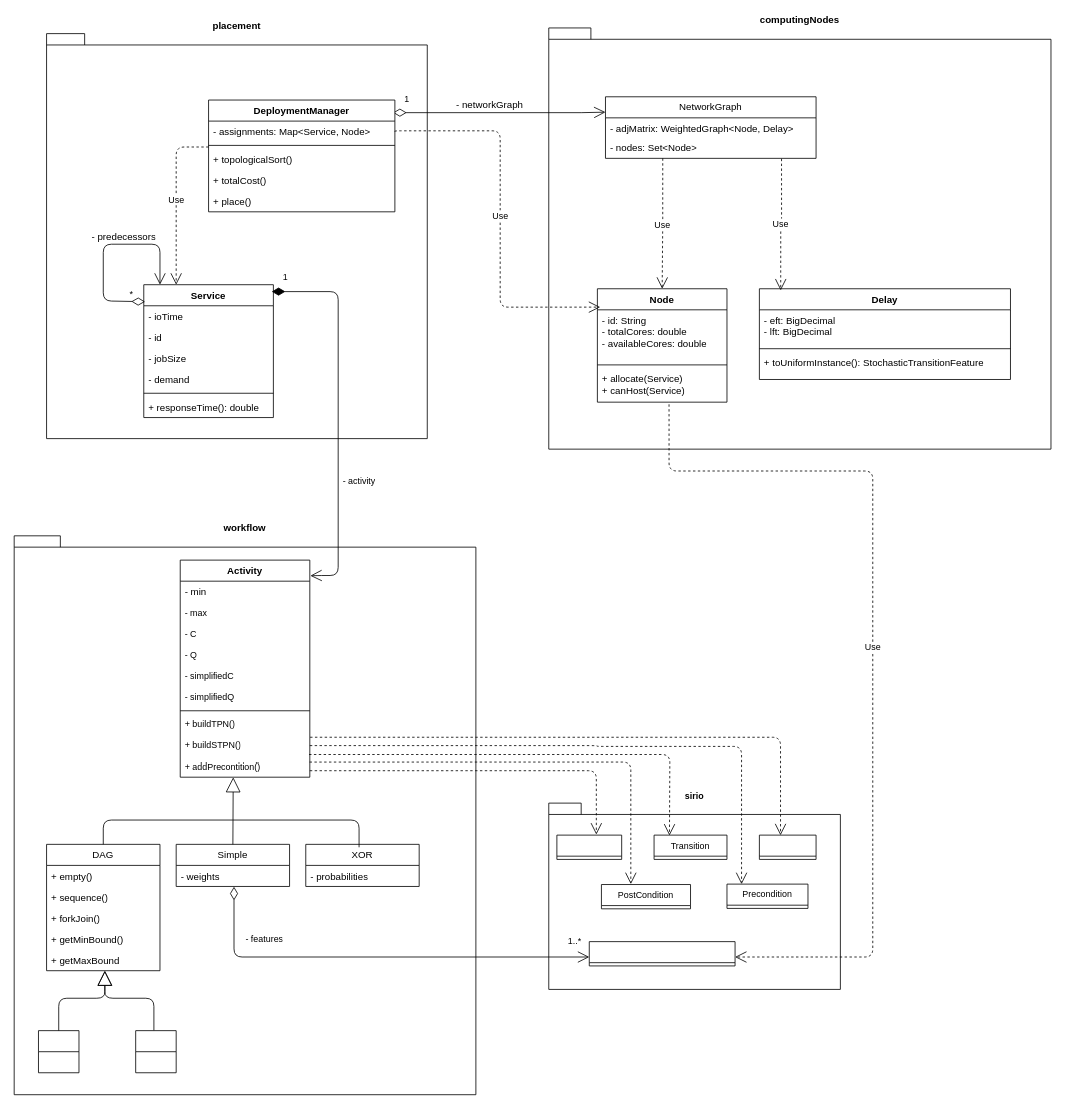
The diagram is 1065 pixels wide and 1109 high, and some of its shapes have lost their labels. Each missing label, with the centre of its shape:
"AND" belongs at (x=58, y=1051).
"PetriNet" belongs at (x=589, y=846).
"Place" belongs at (x=787, y=846).
"SEQ" belongs at (x=155, y=1051).
"StochasticTransitionFeature" belongs at (x=661, y=953).
